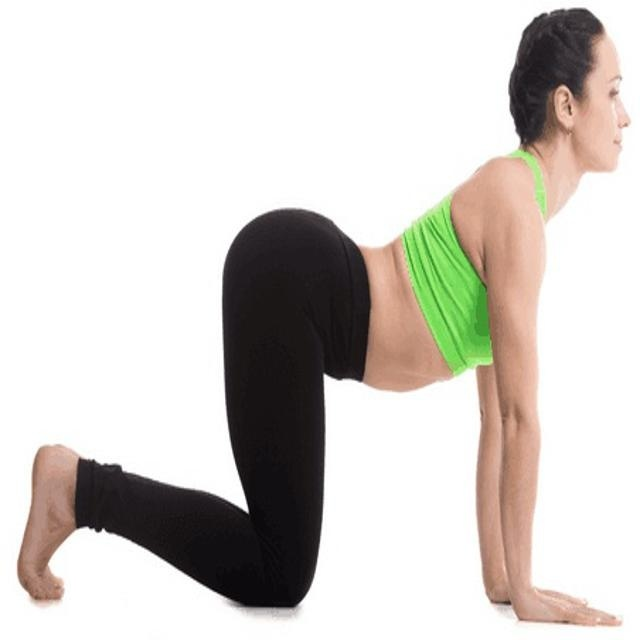Cow_Pose: (17, 8, 631, 628)
